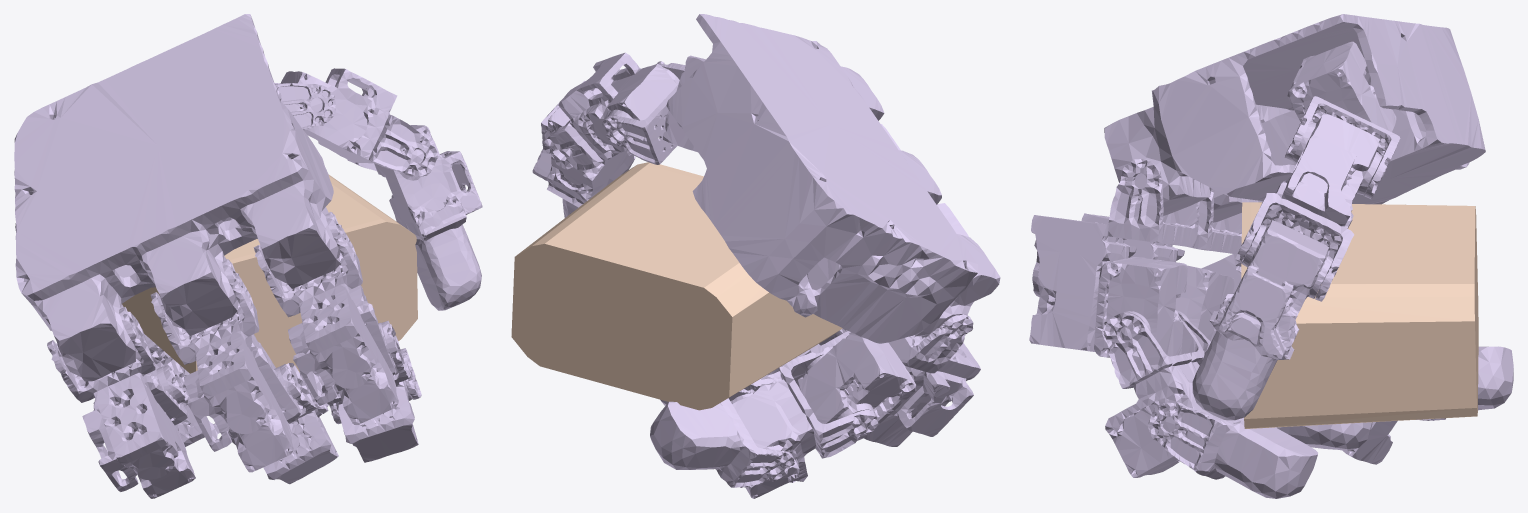
File: 71035c721f1e73-closed.glb
3 views of the same model, side by side, from view 1: azimuth 30°, elevation 25°; view 2: azimuth 150°, elevation 25°; view 3: azimuth 270°, elevation 25° (orthographic). The views are drawn at different scales.
Parts seen in each view (by area): view 1: LEAP_hand, world; view 2: LEAP_hand, world; view 3: LEAP_hand, world.
Boxes of the visible parts, left/top/right/bottom form: LEAP_hand: left=14, top=14, right=482, bottom=498; world: left=122, top=174, right=417, bottom=373; LEAP_hand: left=532, top=14, right=1000, bottom=498; world: left=511, top=162, right=842, bottom=410; LEAP_hand: left=1029, top=14, right=1513, bottom=498; world: left=1241, top=202, right=1478, bottom=428.
Size of the model in its own units: 0.1993 by 0.1915 by 0.1731.
